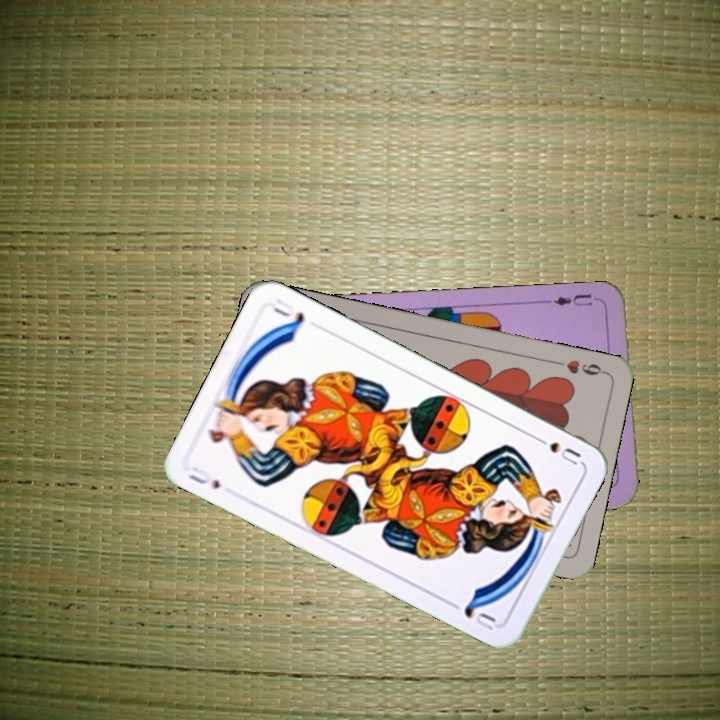EU: (545, 290, 604, 309)
H9: (549, 355, 608, 378)
SU: (529, 431, 584, 468), (184, 462, 223, 492)
